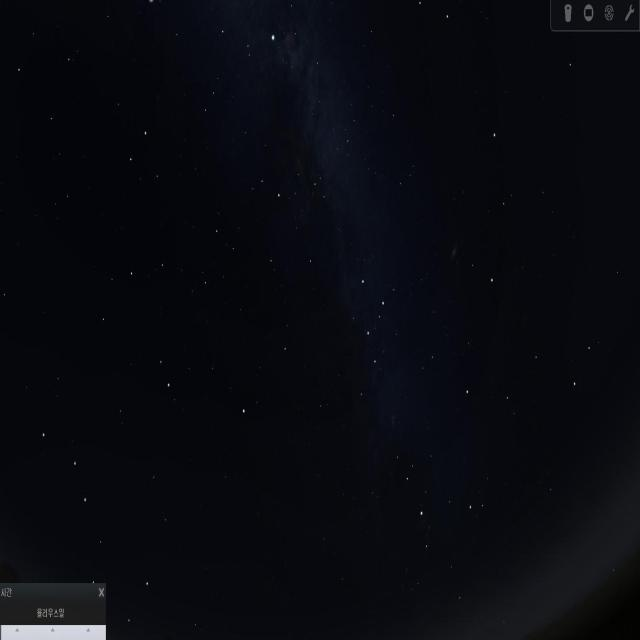cassiopeia: (344, 272, 404, 409)
ursa_major: (26, 416, 156, 622)
